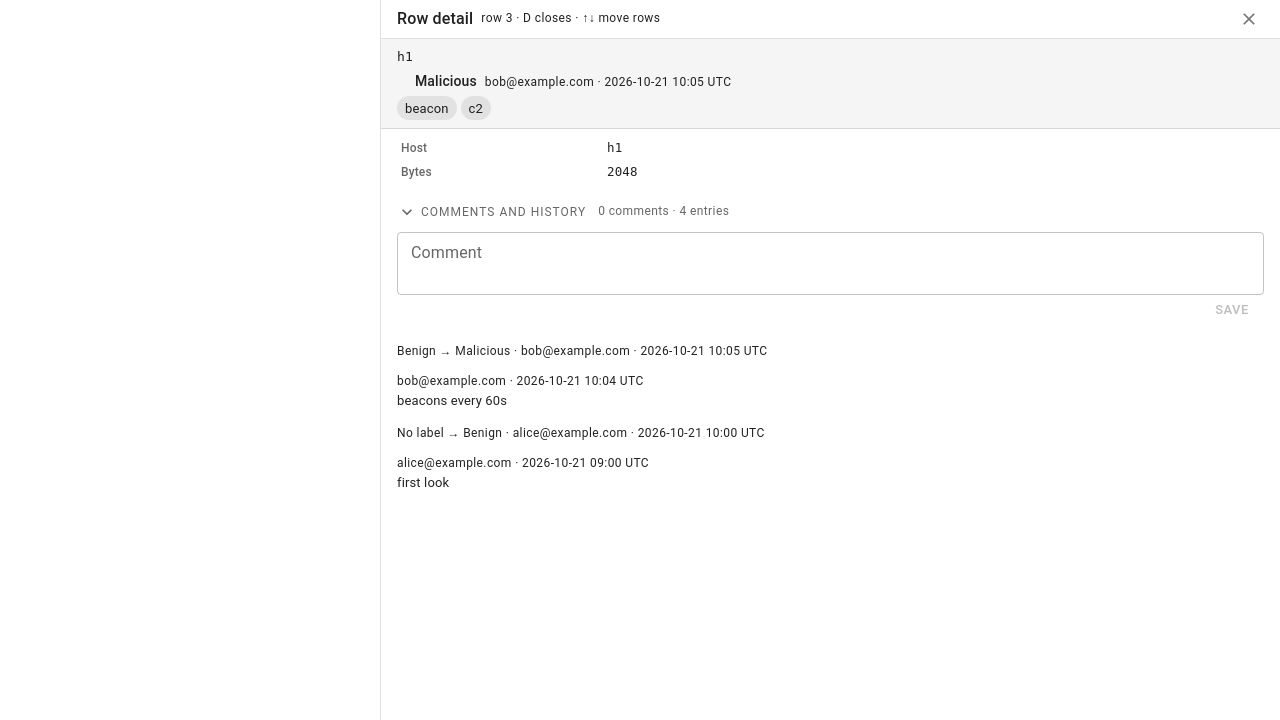
Test: RowDetail › keeps the comment and shows why when saving it fails
Type "x" into the text box labelled "Comment". click: (830, 263)
box: [411,240,1250,286]
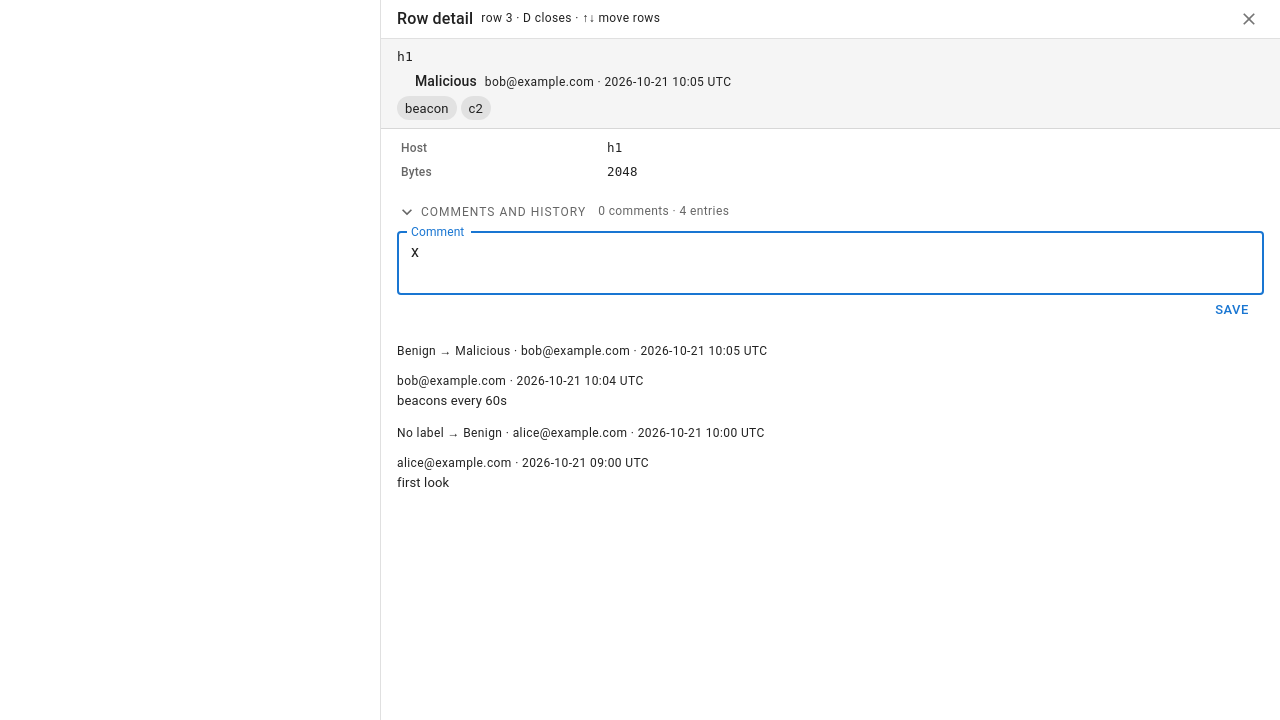
Click the button "Save". click: click(1232, 310)
box: [1200,295,1264,326]
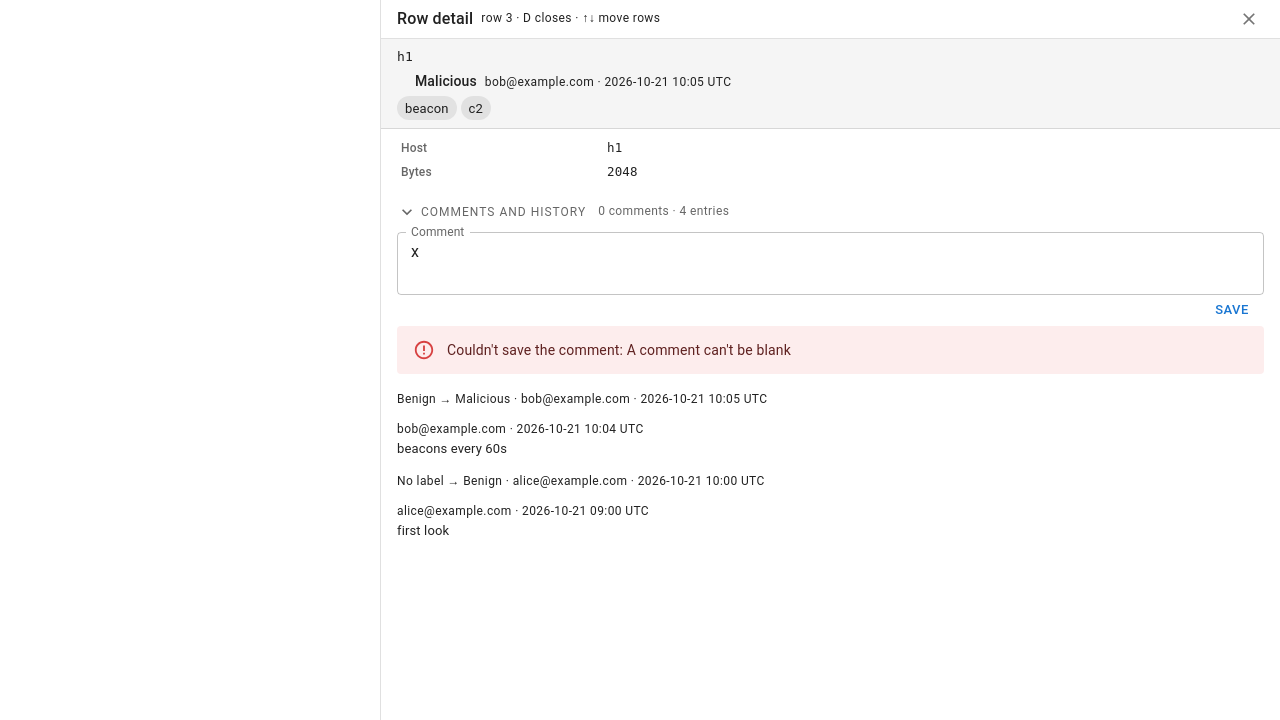
Result: the text "Couldn't save the comment: A comment can't be blank" is shown at [447,342,791,358]
